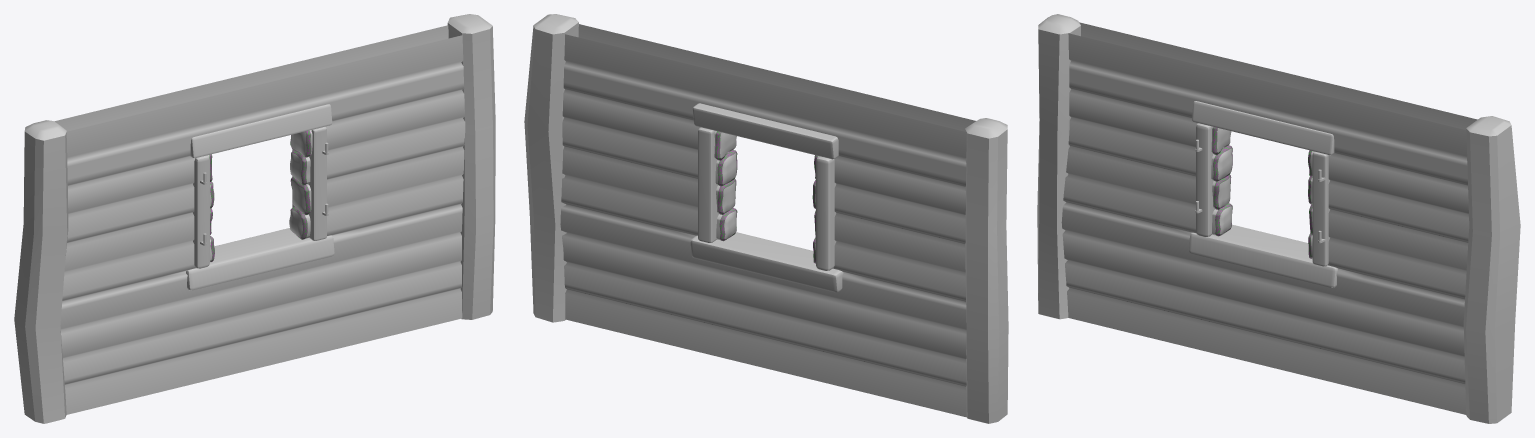
File: SM_wallWindow4mB_a1.fbx
The picture shows the model from 3 angles, left to right: view 1: azimuth 30°, elevation 25°; view 2: azimuth 150°, elevation 25°; view 3: azimuth 330°, elevation 25°; orthographic projection.
Visible parts, largest first — view 1: SM_wallWindow4mB_a1_LOD0; view 2: SM_wallWindow4mB_a1_LOD0; view 3: SM_wallWindow4mB_a1_LOD0.
Boxes of the visible parts, x1,y1,x2,y2 form: SM_wallWindow4mB_a1_LOD0: (14, 14, 495, 423); SM_wallWindow4mB_a1_LOD0: (524, 14, 1008, 423); SM_wallWindow4mB_a1_LOD0: (1037, 14, 1520, 423).
Bounding box in the file's own units: 436 × 42.77 × 258.
Materials: 3 (1 with a texture image).
